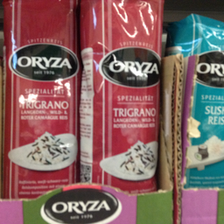rice: (78, 1, 164, 191), (2, 2, 78, 198), (174, 14, 224, 189)
